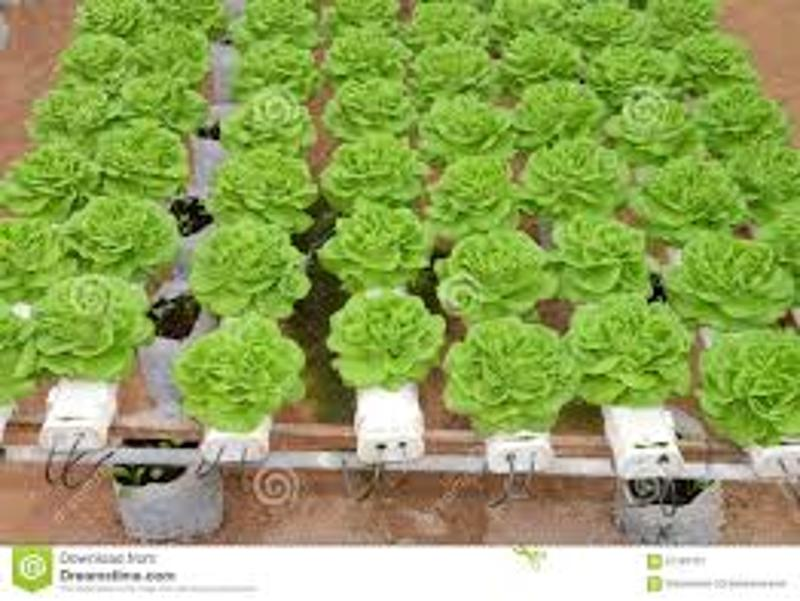cabbage: (450, 318, 574, 433), (177, 312, 303, 423), (330, 286, 447, 391), (575, 294, 690, 398), (36, 272, 158, 368), (677, 232, 792, 332), (187, 219, 315, 308), (708, 332, 800, 435), (643, 151, 746, 241), (447, 230, 554, 316), (67, 197, 180, 278), (557, 216, 659, 297), (330, 203, 433, 280), (527, 136, 630, 213), (209, 148, 315, 219), (95, 122, 189, 197), (6, 138, 93, 216), (326, 136, 424, 201), (437, 156, 524, 229), (518, 76, 607, 141), (124, 70, 214, 134), (429, 91, 515, 156), (327, 78, 419, 138), (2, 216, 71, 294), (230, 86, 311, 151), (27, 82, 116, 141), (501, 27, 583, 89), (706, 88, 790, 145), (615, 94, 694, 154), (417, 37, 501, 92), (328, 26, 413, 79), (598, 38, 678, 92), (686, 29, 760, 86), (746, 134, 800, 210), (239, 39, 312, 94), (143, 19, 209, 78), (62, 31, 133, 85), (242, 3, 322, 42), (417, 1, 489, 38), (580, 1, 644, 41), (504, 1, 573, 36), (656, 2, 715, 40), (330, 2, 410, 29)
